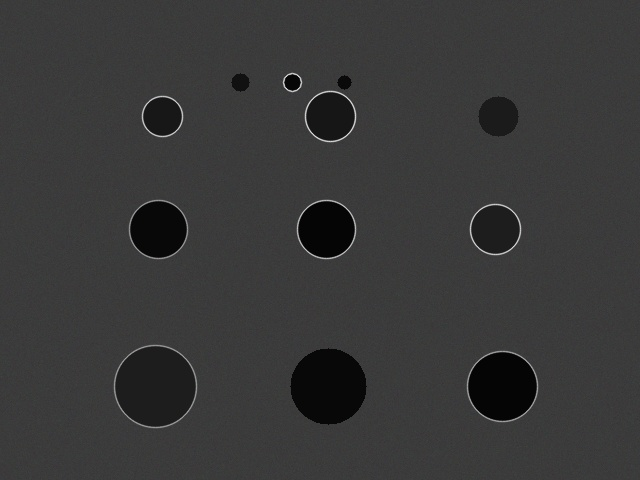hole: (114, 345, 196, 427), (290, 348, 366, 424), (467, 351, 537, 421), (129, 200, 187, 258), (297, 200, 355, 258), (305, 91, 355, 141), (470, 204, 520, 254), (142, 96, 182, 136), (478, 96, 518, 136), (231, 73, 249, 91), (283, 73, 301, 91), (337, 75, 351, 89)
